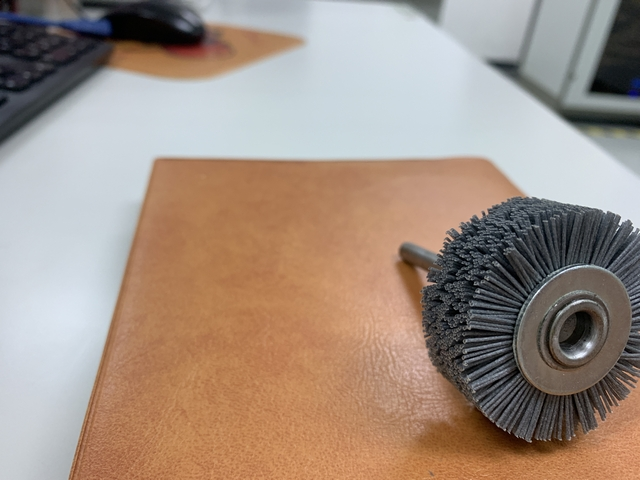Wheel Brush: (352, 200, 639, 447), (326, 212, 640, 409)
